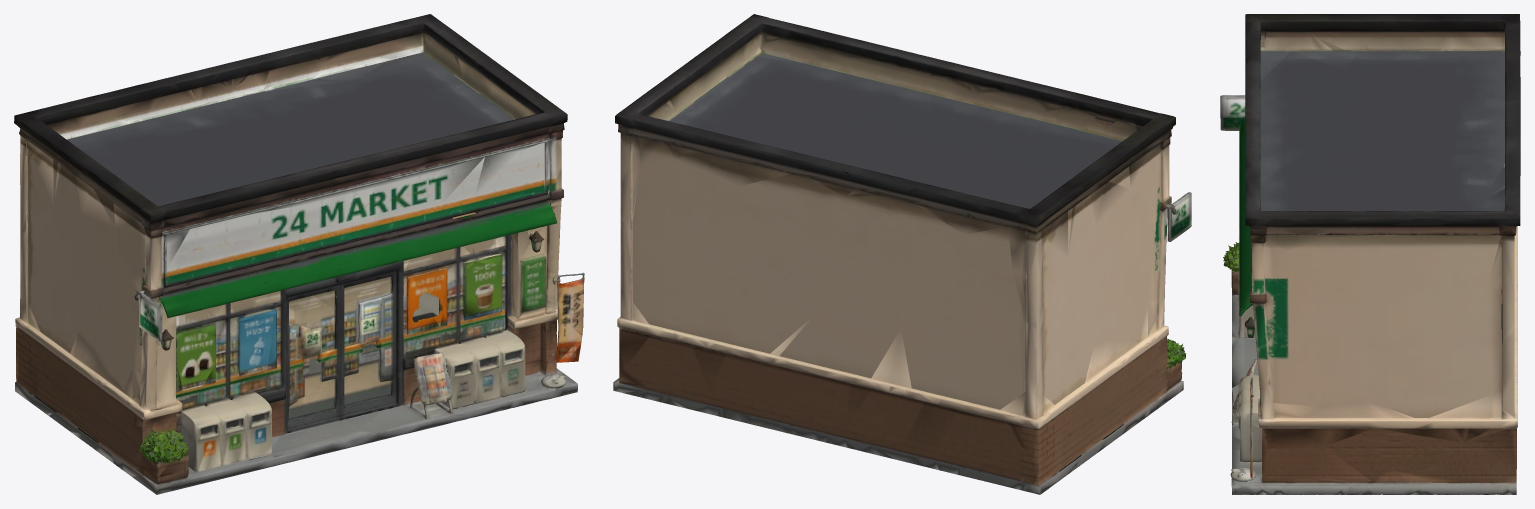
The model's file is shop-24.glb.
3 renders of one model, left to right at view 1: azimuth 30°, elevation 25°; view 2: azimuth 150°, elevation 25°; view 3: azimuth 270°, elevation 25°, orthographic.
Visible parts, largest first — view 1: Body; view 2: Body; view 3: Body.
Boxes of the visible parts, x1,y1,x2,y2 form: Body: (14, 14, 584, 494); Body: (613, 14, 1191, 494); Body: (1220, 14, 1520, 494).
Bounding box in the file's own units: 11.83 × 7 × 6.89.
1 material, 1 textured.
